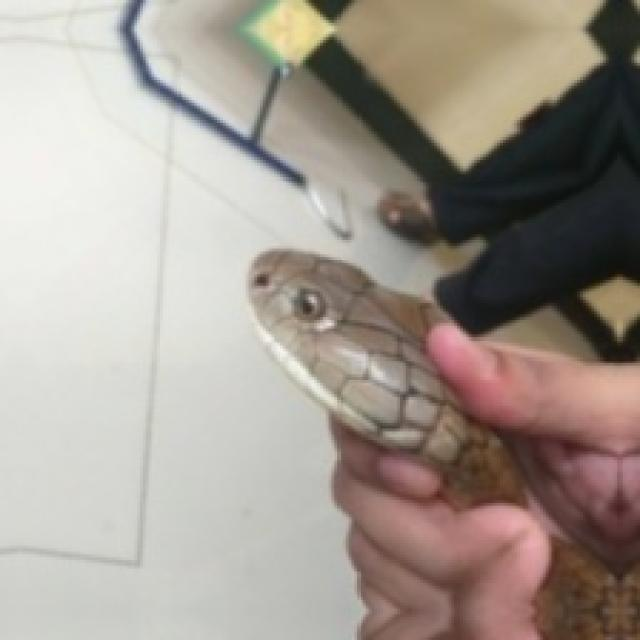king cobra: (249, 249, 526, 509), (514, 434, 637, 637)
